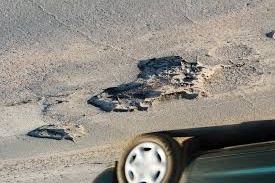pothole: (82, 53, 211, 116), (21, 119, 82, 147), (264, 31, 273, 42)
